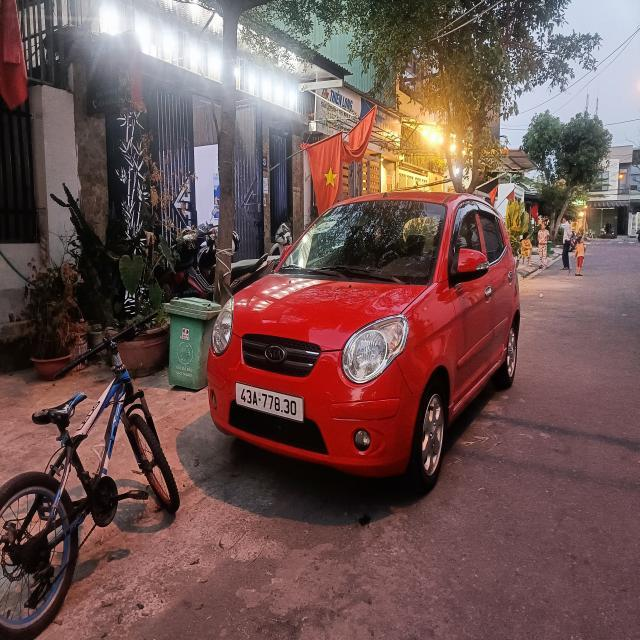car: (210, 189, 531, 490)
plate: (232, 380, 307, 425)
